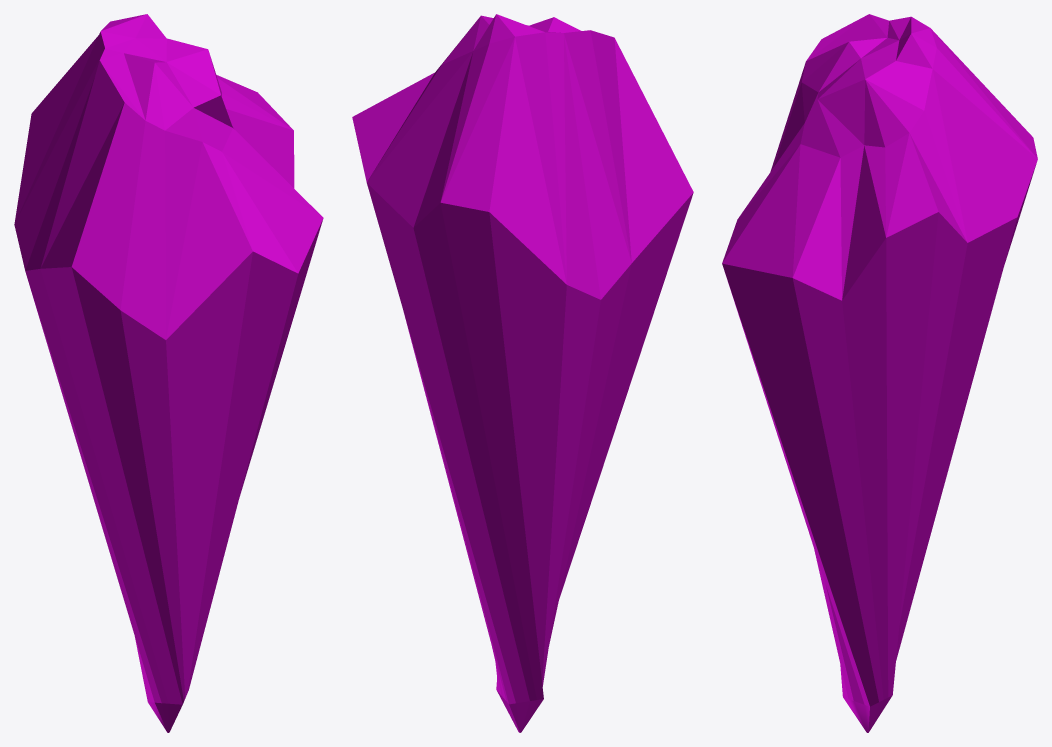
File: Crystal.fbx
The picture shows the model from 3 angles, left to right: view 1: azimuth 30°, elevation 25°; view 2: azimuth 150°, elevation 25°; view 3: azimuth 270°, elevation 25°; orthographic projection. The views are drawn at different scales.
Parts seen in each view (by area): view 1: Temple_FIX_0000000000000000000000000000000000000:pCube22; view 2: Temple_FIX_0000000000000000000000000000000000000:pCube22; view 3: Temple_FIX_0000000000000000000000000000000000000:pCube22.
Part boxes in pixels (<box>): Temple_FIX_0000000000000000000000000000000000000:pCube22: <box>14,14,323,732</box>; Temple_FIX_0000000000000000000000000000000000000:pCube22: <box>352,14,693,732</box>; Temple_FIX_0000000000000000000000000000000000000:pCube22: <box>722,14,1037,732</box>.
Size of the model in its own units: 7.77 by 19.58 by 8.01.
